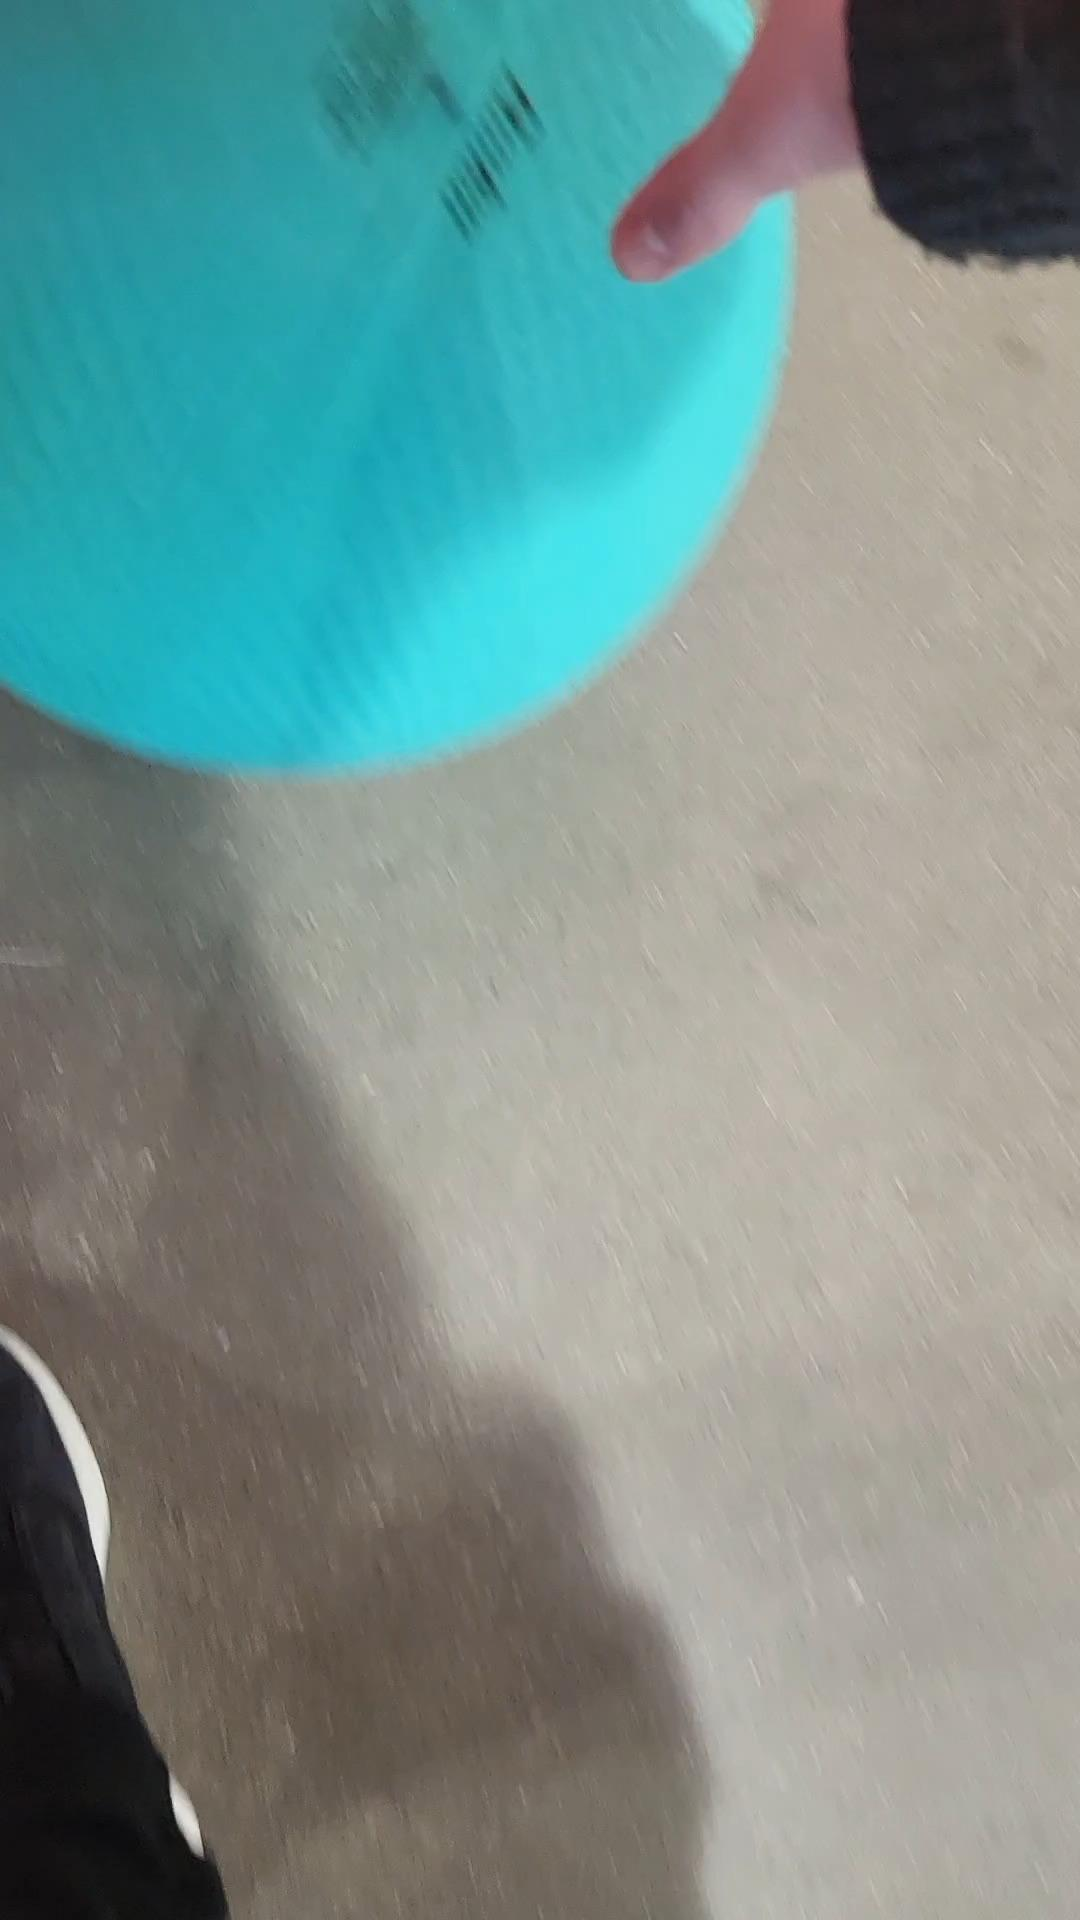algae: (0, 0, 1080, 804)
